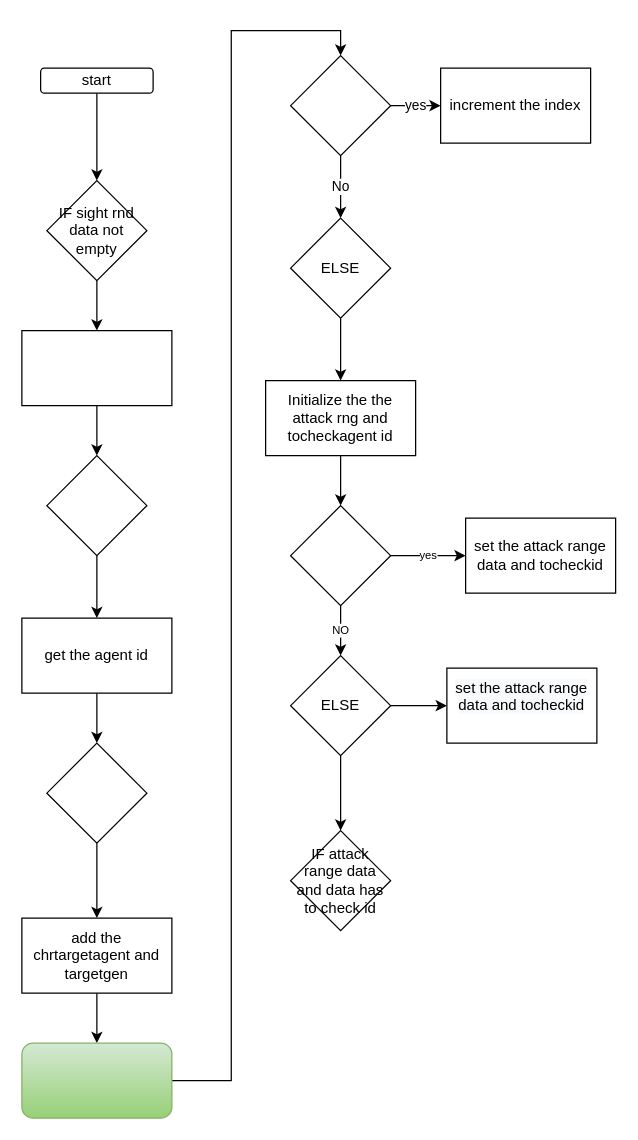
Some shapes in this 638 by 1140 pixel diagram are drawn without their labels. The shapes that lost their labels are listed below. From the top down, each one's centre as x and y in pixels, then its label:
At (340,105): "IF target is false".
At (96,367): "clone the sight range data and initialize the target agent array".
At (96,505): "DO WHILE target found".
At (340,555): "IF agent is pop and target agent sight and attack rng".
At (96,792): "IF called agent is pop and chrtarget agent".
At (96,1080): "call isTargetToAgent".
